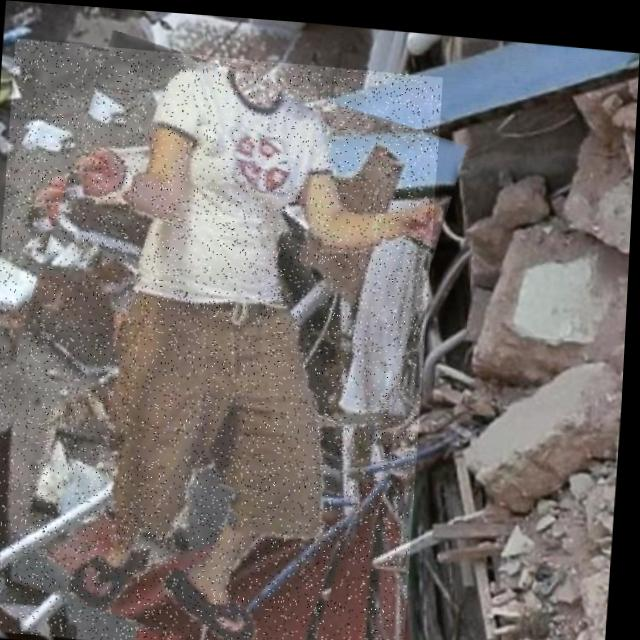Person in Rubble: (0, 37, 443, 640)
